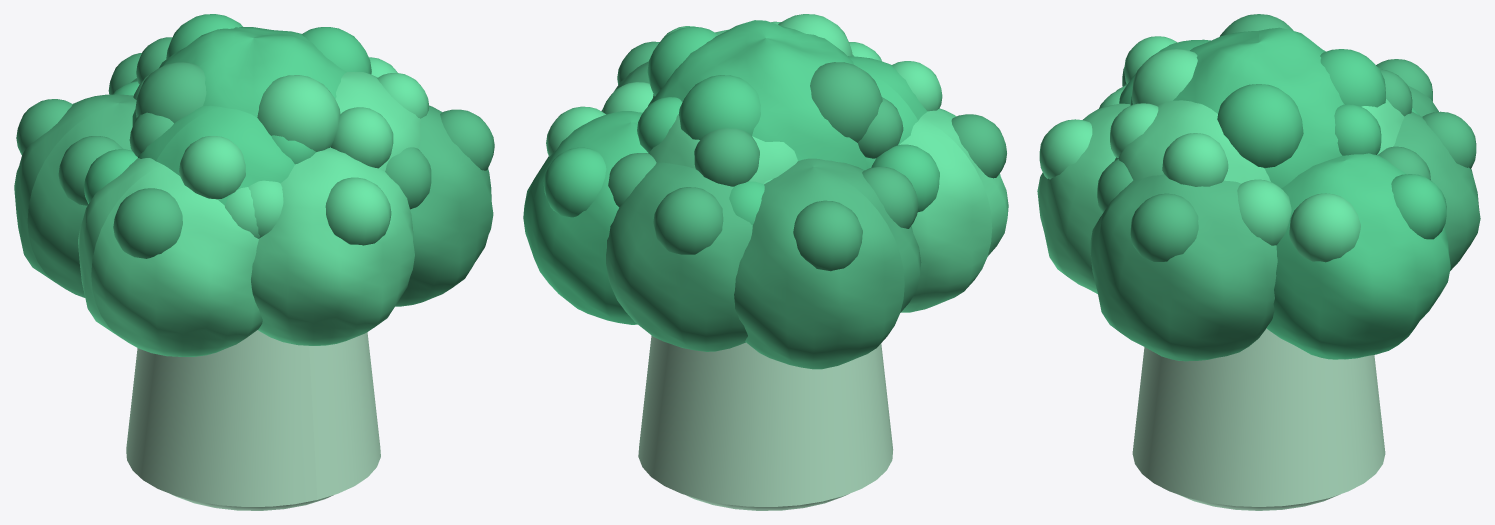
Rendered from broccoli.glb.
The picture shows the model from 3 angles, left to right: view 1: azimuth 30°, elevation 25°; view 2: azimuth 150°, elevation 25°; view 3: azimuth 270°, elevation 25°; orthographic projection.
Parts seen in each view (by area): view 1: Chibi_Broccoli, Broccoli_Stalk; view 2: Chibi_Broccoli, Broccoli_Stalk; view 3: Chibi_Broccoli, Broccoli_Stalk.
Boxes of the visible parts, left/top/right/bottom form: Chibi_Broccoli: left=14, top=14, right=494, bottom=510; Broccoli_Stalk: left=126, top=330, right=380, bottom=506; Chibi_Broccoli: left=523, top=14, right=1008, bottom=510; Broccoli_Stalk: left=638, top=335, right=893, bottom=506; Chibi_Broccoli: left=1037, top=14, right=1480, bottom=510; Broccoli_Stalk: left=1132, top=328, right=1385, bottom=506.
Bounding box in the file's own units: 1.97 × 2.16 × 1.95.
